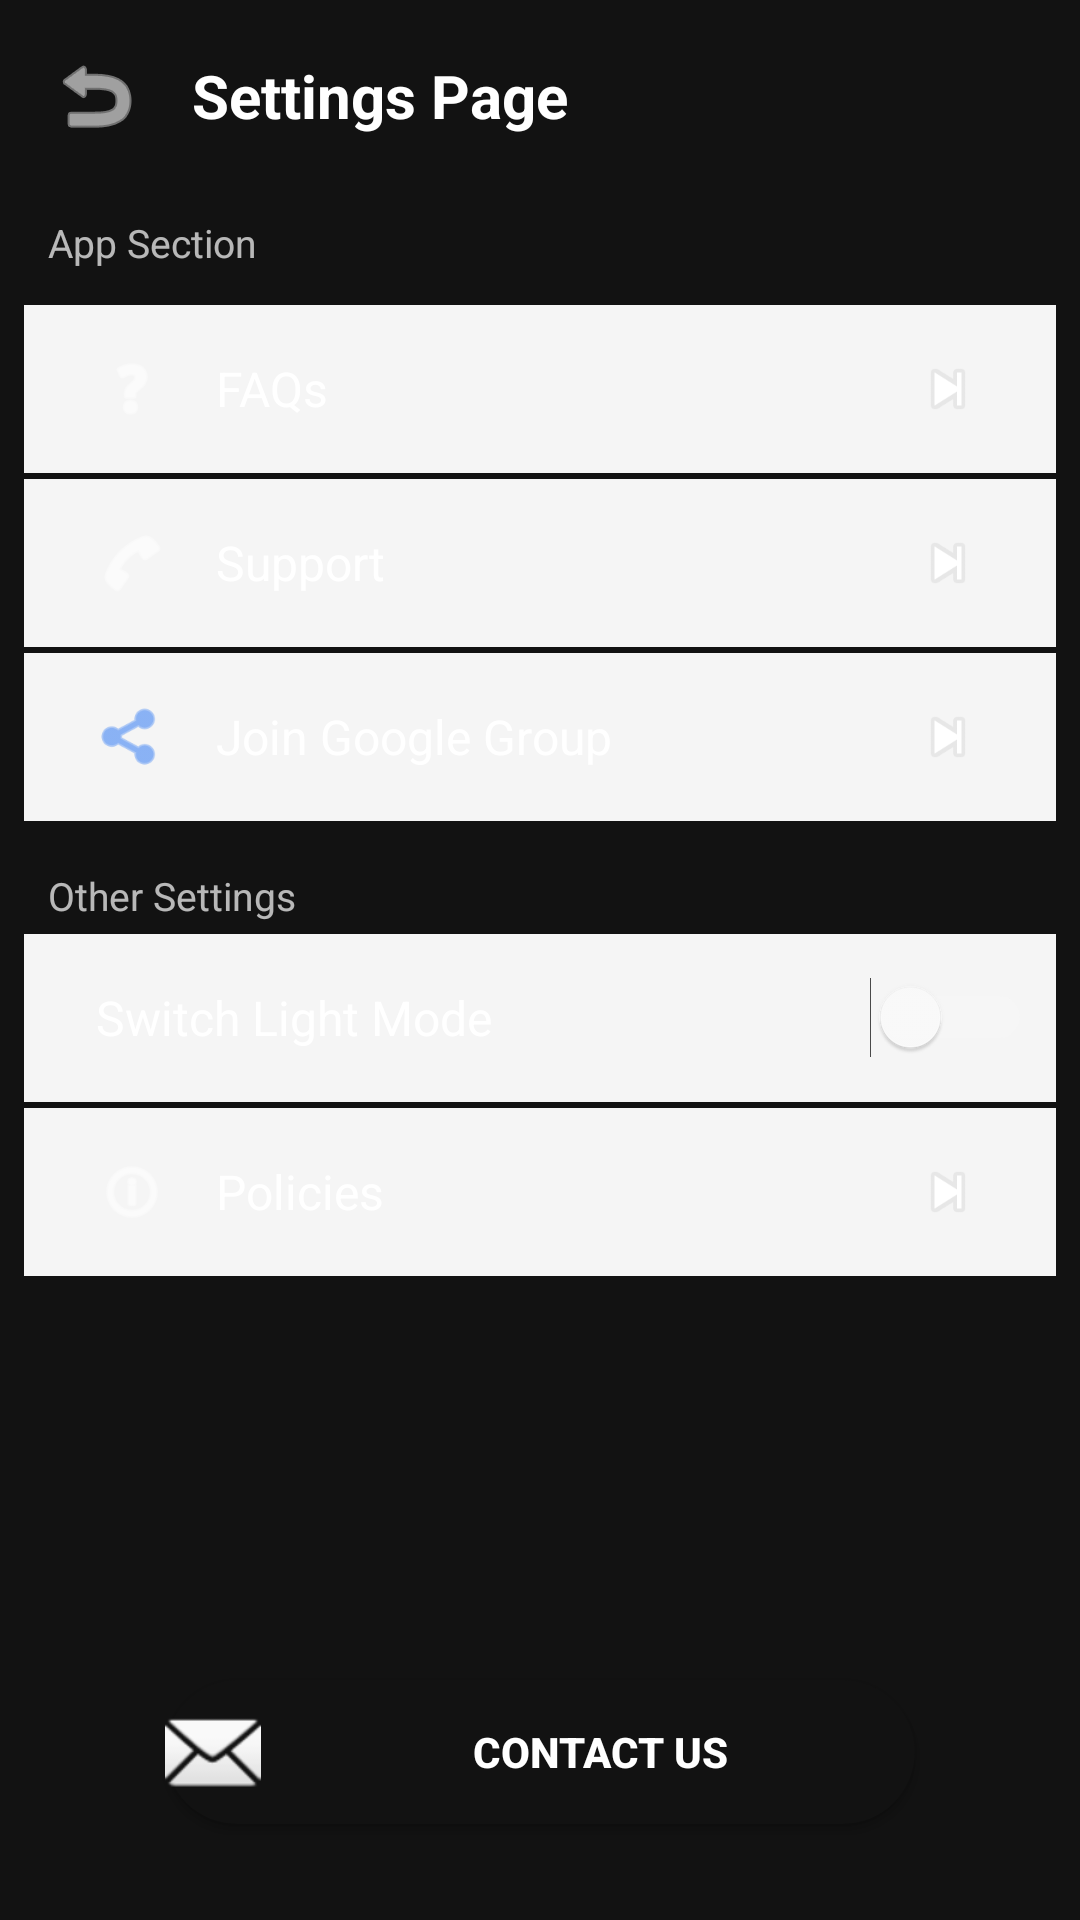

Icon click points for this 1080*1920 phone screenshot, format (x=x, y=y):
revert: (x=97, y=96)
share: (x=128, y=736)
